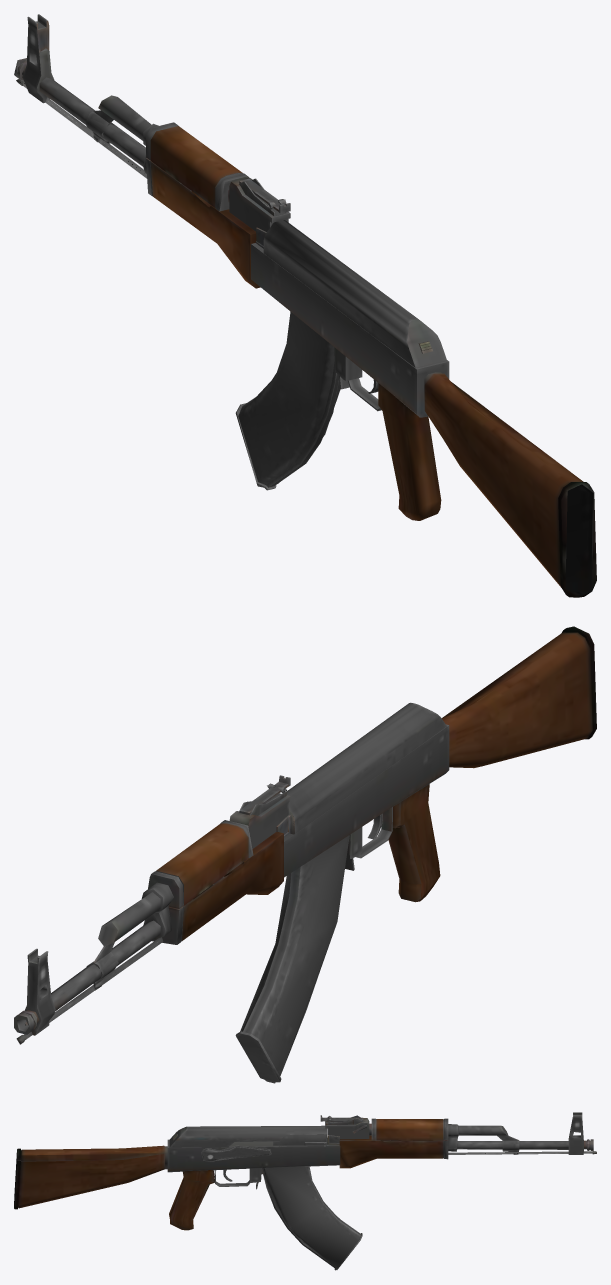
3 renders of one model, top to bottom at view 1: azimuth 30°, elevation 25°; view 2: azimuth 150°, elevation 25°; view 3: azimuth 270°, elevation 25°, orthographic. The views are drawn at different scales.
Visible parts, largest first — view 1: AK_47, Magazine; view 2: AK_47, Magazine; view 3: AK_47, Magazine, Selector_Switch, Ejection_Port.
Boxes of the visible parts, x1,y1,x2,y2 form: AK_47: (14,14,596,597); Magazine: (235,311,340,490); AK_47: (14,626,596,1044); Magazine: (235,835,349,1083); AK_47: (14,1112,596,1230); Magazine: (262,1166,362,1270); Selector_Switch: (201,1145,271,1161); Ejection_Port: (273,1134,326,1147).
Size of the model in its own units: 0.0397 by 0.2582 by 0.8765.
Materials: 1 (1 with a texture image).
